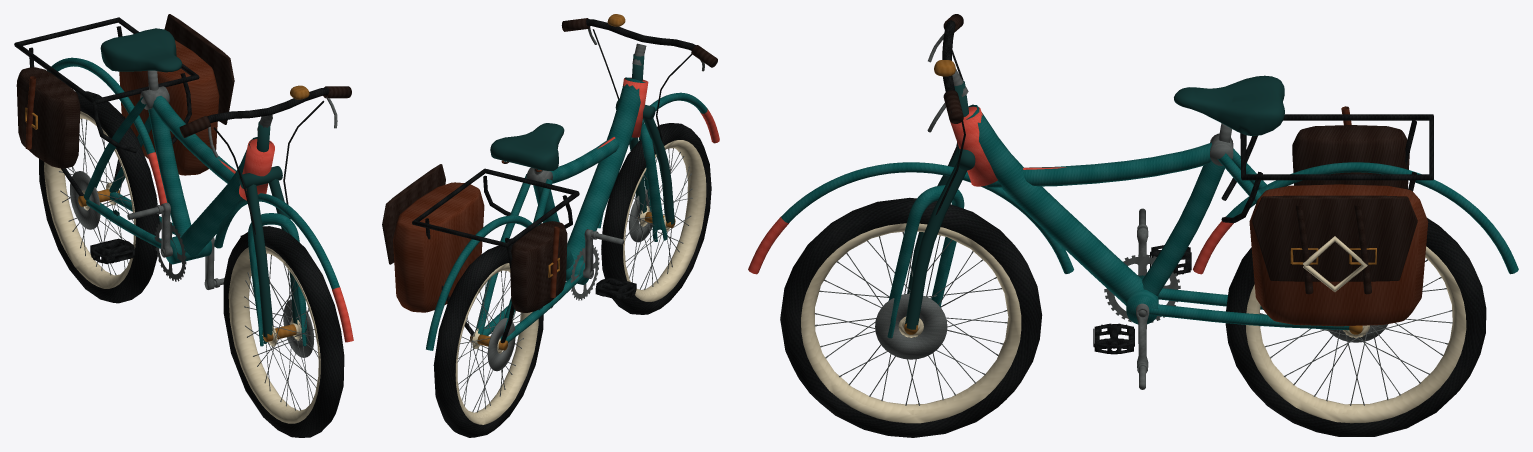
The model's file is asha-bike-v4.glb.
3 renders of one model, left to right at view 1: azimuth 30°, elevation 25°; view 2: azimuth 150°, elevation 25°; view 3: azimuth 270°, elevation 25°, orthographic. The views are drawn at different scales.
Parts seen in each view (by area): view 1: frame.visible, wheel.front.visible, wheel.rear.visible, fork.visible, handlebar.visible, crank.visible, pedal.R.visible; view 2: frame.visible, wheel.front.visible, wheel.rear.visible, fork.visible, handlebar.visible, crank.visible, pedal.R.visible; view 3: frame.visible, wheel.front.visible, wheel.rear.visible, fork.visible, handlebar.visible, crank.visible, pedal.L.visible.
Boxes of the visible parts, x1,y1,x2,y2 form: frame.visible: [14, 14, 353, 342]; wheel.front.visible: [223, 226, 344, 437]; wheel.rear.visible: [39, 91, 159, 303]; fork.visible: [239, 121, 307, 346]; handlebar.visible: [179, 85, 351, 234]; crank.visible: [127, 202, 224, 289]; pedal.R.visible: [90, 238, 134, 263]; frame.visible: [382, 77, 719, 350]; wheel.front.visible: [601, 123, 711, 314]; wheel.rear.visible: [433, 245, 543, 437]; fork.visible: [615, 54, 674, 241]; handlebar.visible: [561, 14, 717, 143]; crank.visible: [551, 229, 624, 308]; pedal.R.visible: [595, 277, 636, 300]; frame.visible: [748, 75, 1518, 330]; wheel.front.visible: [780, 197, 1042, 437]; wheel.rear.visible: [1225, 218, 1486, 436]; fork.visible: [887, 80, 975, 338]; handlebar.visible: [927, 14, 968, 215]; crank.visible: [1104, 208, 1180, 389]; pedal.L.visible: [1093, 323, 1134, 354].
Size of the model in its own units: 0.5166 by 0.8828 by 1.58.
1 material, 1 textured.
